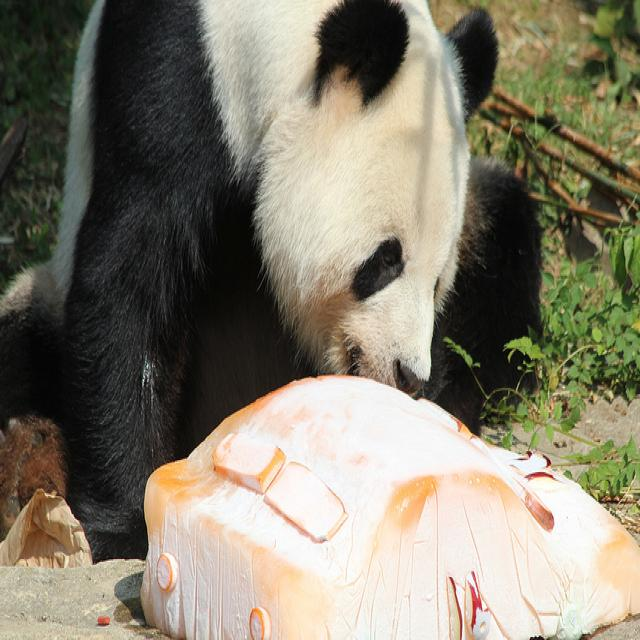Bear: (7, 9, 543, 554)
